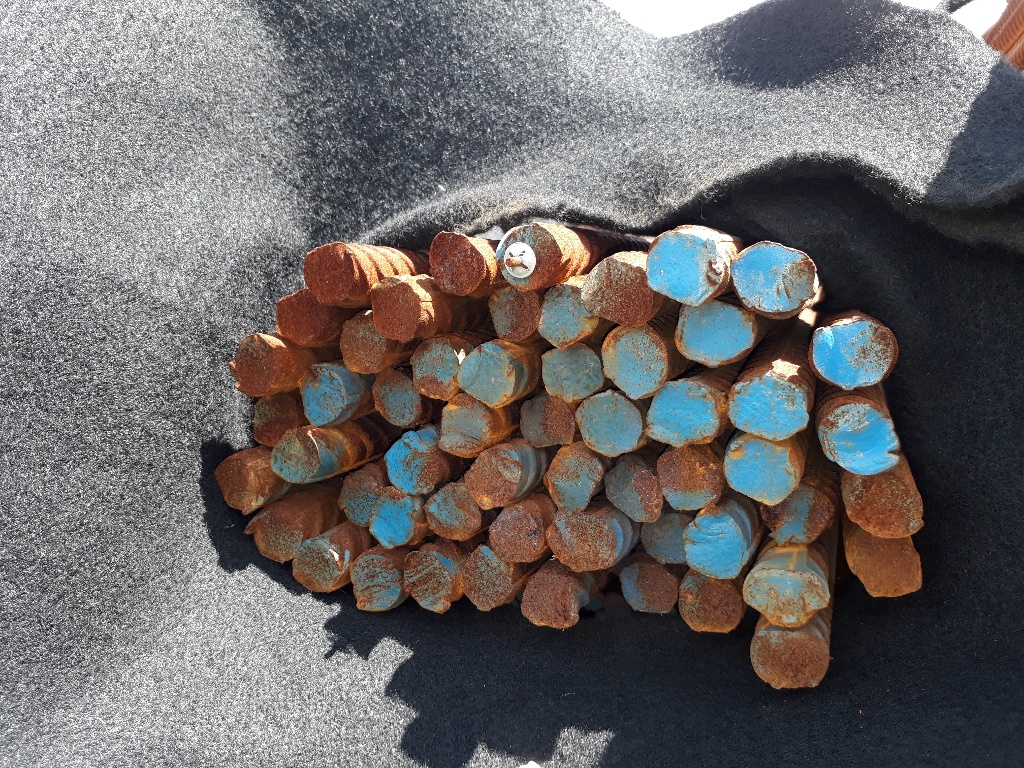dipstick: (730, 238, 817, 315), (841, 466, 924, 538), (645, 235, 725, 309), (812, 322, 895, 391), (723, 437, 803, 506), (673, 300, 755, 366), (728, 380, 811, 443), (847, 532, 923, 600), (743, 570, 830, 629), (644, 379, 719, 444), (751, 628, 827, 691), (827, 409, 900, 474), (582, 256, 648, 327), (601, 333, 667, 402), (497, 224, 561, 294), (574, 393, 643, 457), (546, 510, 613, 574), (757, 486, 829, 544), (429, 228, 487, 299), (684, 517, 747, 581), (656, 449, 721, 511), (538, 288, 598, 350), (455, 347, 515, 408), (542, 450, 601, 512), (677, 575, 740, 633), (383, 433, 442, 493), (540, 345, 603, 401), (605, 464, 662, 525), (423, 483, 482, 541), (365, 486, 417, 551), (520, 572, 579, 628), (617, 561, 677, 616), (410, 337, 462, 400), (463, 448, 516, 509), (489, 502, 541, 563), (461, 545, 509, 611), (404, 552, 454, 614), (301, 247, 357, 302), (370, 283, 423, 341), (485, 290, 540, 345), (371, 368, 421, 428), (233, 334, 279, 399), (275, 289, 329, 344), (297, 366, 345, 427), (215, 456, 267, 512), (520, 398, 573, 450), (338, 314, 384, 373), (351, 555, 399, 611), (439, 405, 490, 457), (291, 541, 340, 592), (269, 431, 317, 483), (251, 513, 302, 561), (643, 511, 688, 564), (340, 471, 381, 526), (252, 394, 296, 445)
